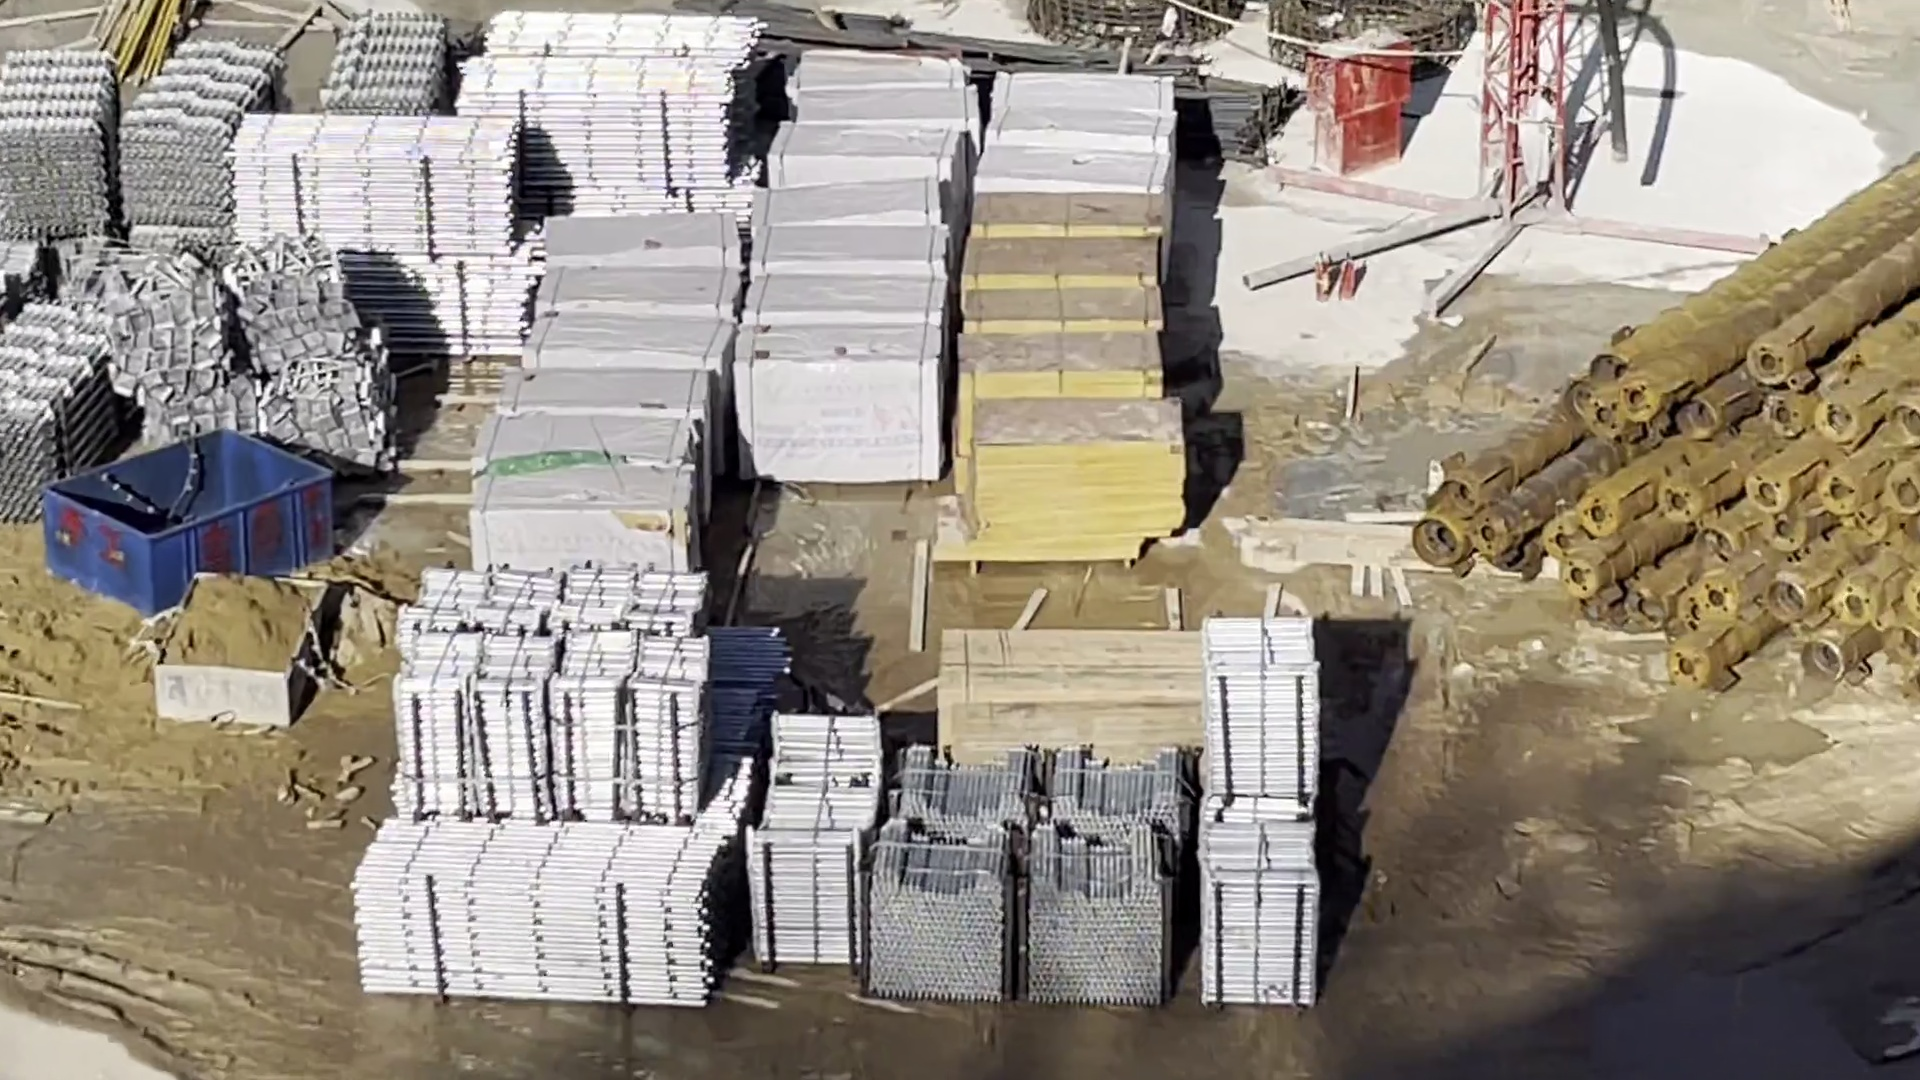board: (961, 189, 1160, 570), (942, 634, 1200, 758)
hopper: (44, 431, 331, 615), (156, 572, 328, 731)
rebar: (774, 1, 1300, 164)
scaffold: (862, 746, 1185, 1001), (389, 580, 716, 820), (223, 115, 527, 363), (353, 827, 729, 1004), (458, 16, 765, 195), (1201, 626, 1323, 1007), (756, 723, 881, 968), (1, 305, 127, 529), (117, 44, 277, 216), (3, 47, 119, 237), (328, 13, 439, 120)
